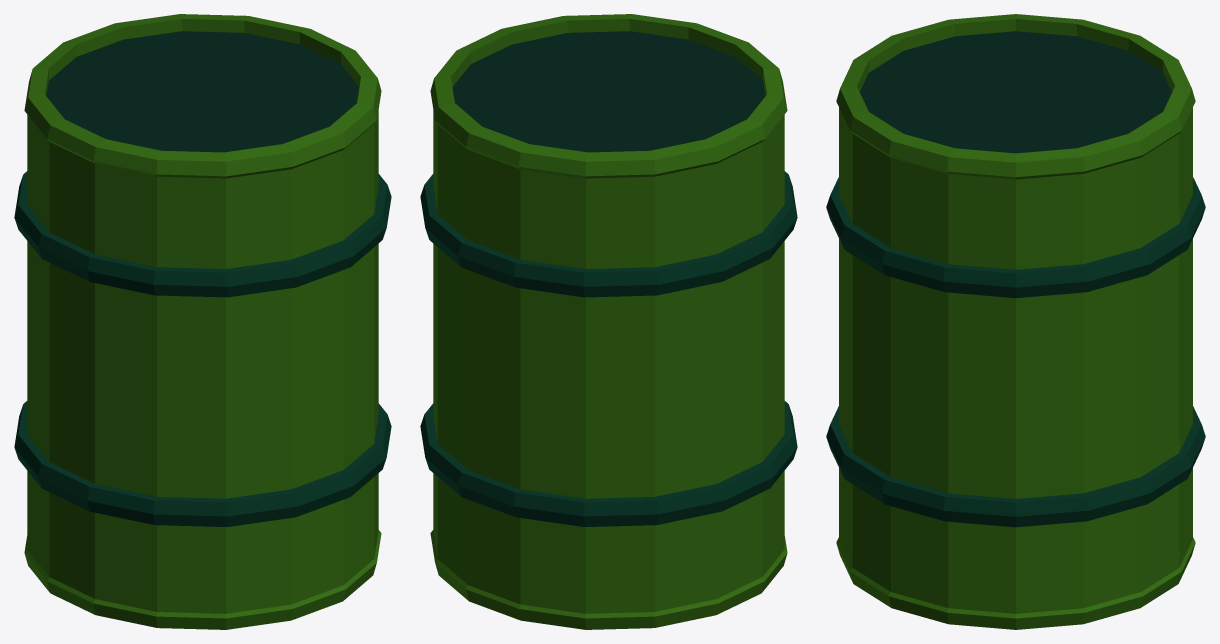
Rendered from OilBarrel_02.fbx.
3 views of the same model, side by side, from view 1: azimuth 30°, elevation 25°; view 2: azimuth 150°, elevation 25°; view 3: azimuth 270°, elevation 25° (orthographic).
Parts seen in each view (by area): view 1: OilBarrel_02; view 2: OilBarrel_02; view 3: OilBarrel_02.
Part boxes in pixels (<box>): OilBarrel_02: <box>14,14,391,629</box>; OilBarrel_02: <box>420,14,797,629</box>; OilBarrel_02: <box>826,14,1205,629</box>.
Bounding box in the file's own units: 114 × 157 × 114.
